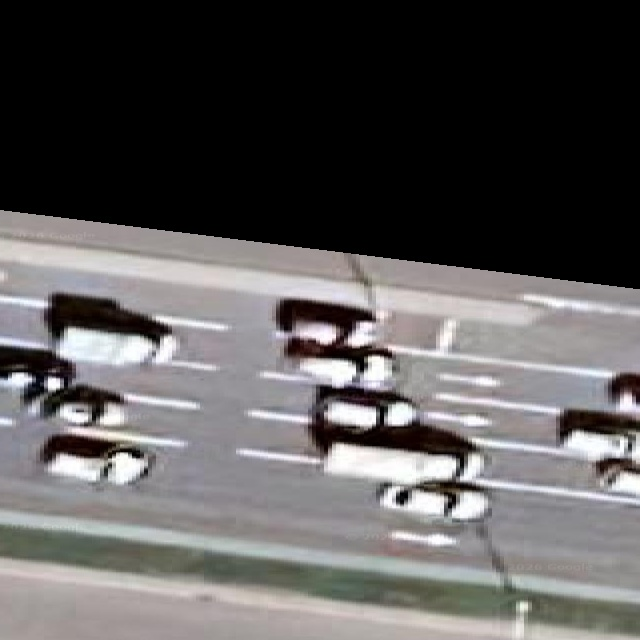car: (309, 402, 487, 484), (44, 293, 177, 365), (39, 434, 154, 484), (283, 338, 397, 388), (275, 298, 377, 347), (312, 385, 420, 430), (377, 482, 490, 523), (557, 409, 639, 461), (30, 385, 125, 426), (0, 346, 74, 398), (595, 458, 639, 496), (607, 372, 639, 411)
